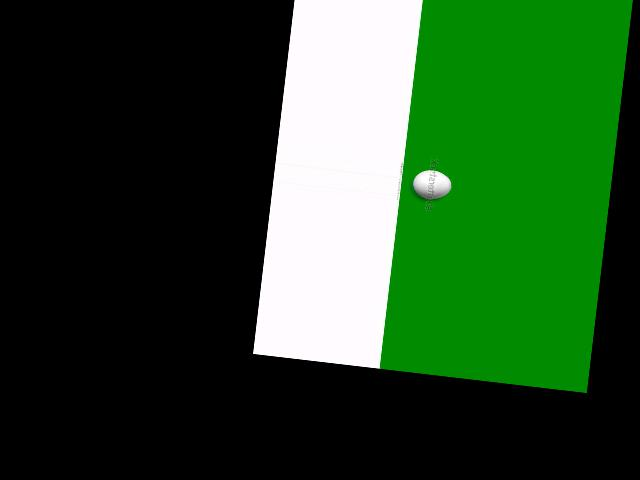egg: (411, 168, 452, 201)
